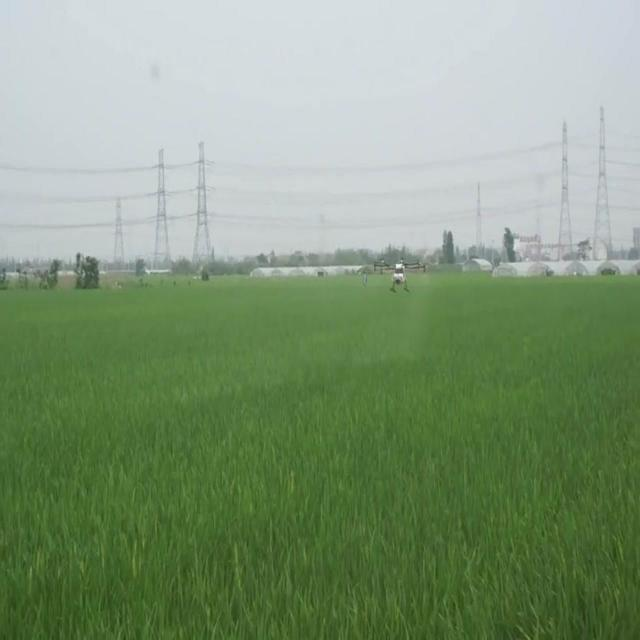UAV: (374, 257, 428, 293)
